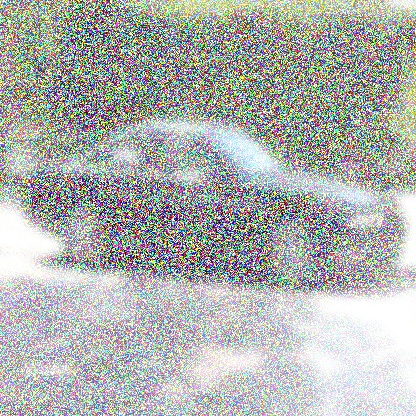Vehicle: (23, 114, 407, 294)
